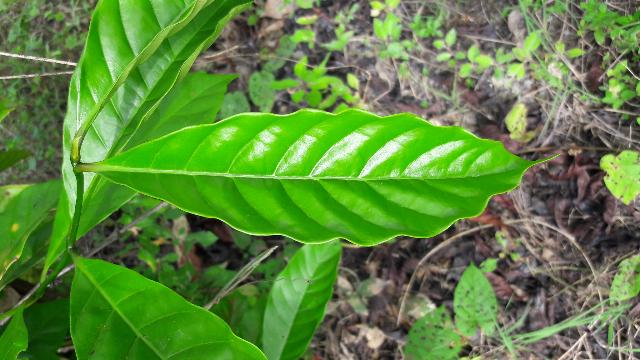healthy: (98, 109, 538, 246)
